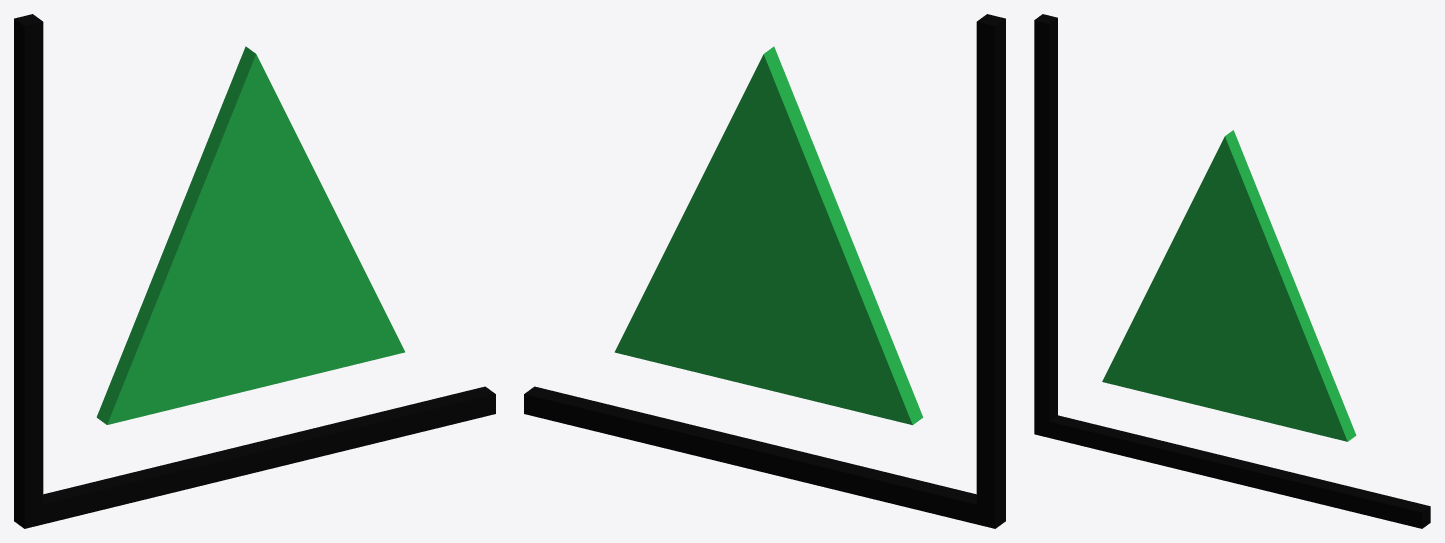
The model's file is triangulo.gltf.
3 views of the same model, side by side, from view 1: azimuth 30°, elevation 25°; view 2: azimuth 150°, elevation 25°; view 3: azimuth 330°, elevation 25° (orthographic). The views are drawn at different scales.
Size of the model in its own units: 0.0588 by 0.06 by 0.00228.
